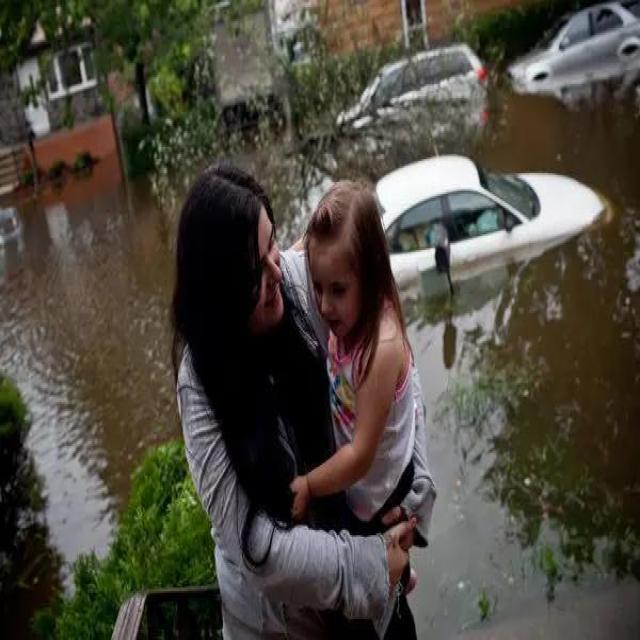water: (402, 53, 637, 636), (4, 195, 182, 639)
